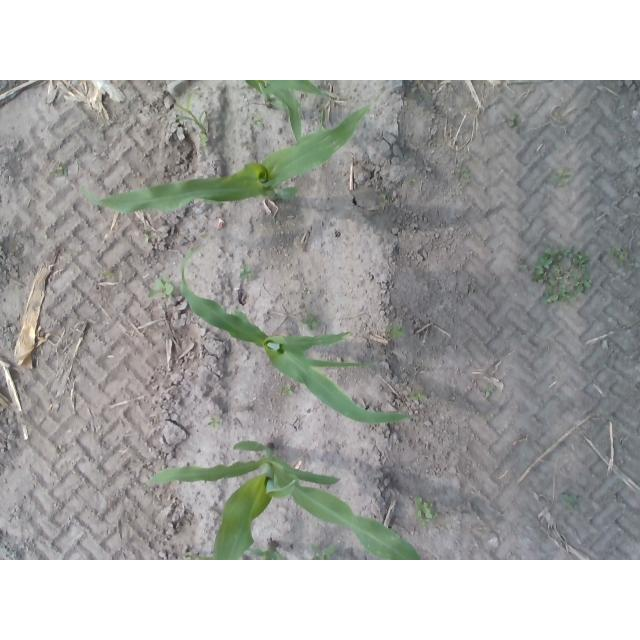Maize: (179, 250, 415, 425), (79, 87, 383, 215), (141, 440, 419, 561), (245, 81, 334, 144), (198, 541, 286, 560)
Weeds: (532, 245, 593, 308), (172, 94, 208, 147), (414, 495, 438, 525), (149, 280, 175, 299), (607, 246, 629, 267), (310, 544, 336, 561), (549, 169, 572, 187), (560, 494, 584, 510), (301, 314, 321, 331), (385, 324, 406, 340), (50, 161, 68, 177), (240, 263, 253, 281), (457, 165, 471, 179), (180, 549, 196, 560), (409, 392, 428, 401), (508, 114, 521, 127), (279, 384, 293, 396), (209, 415, 220, 427), (102, 270, 115, 279), (486, 386, 495, 399), (253, 117, 264, 127), (378, 195, 388, 203), (520, 264, 529, 271), (145, 232, 151, 242), (202, 233, 210, 240), (472, 284, 477, 293)
